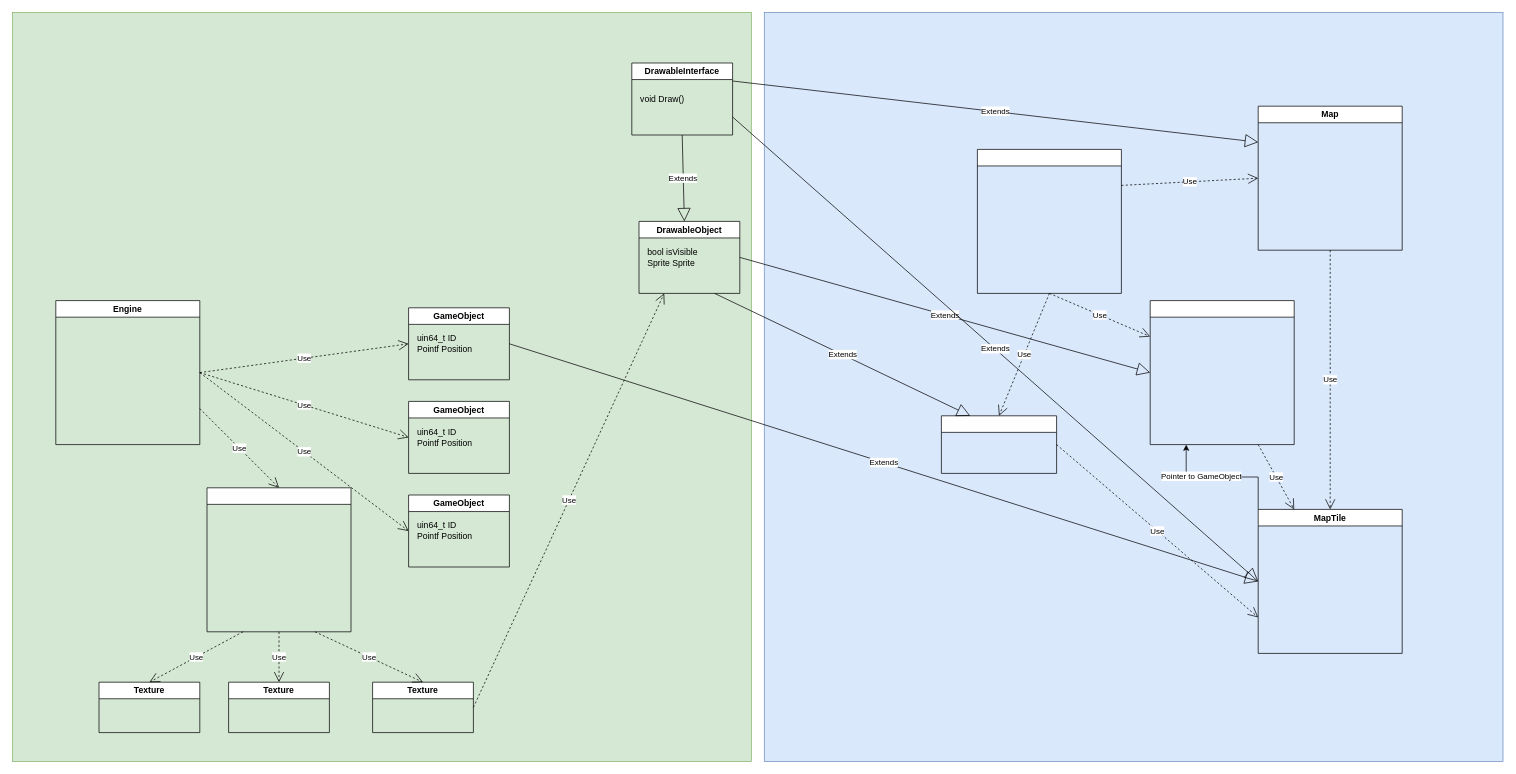
The diagram is 1516 pixels wide and 774 high, and some of its shapes have lost their labels. Here are the shapes that lost their labels. From the top down, the box of each, then its label:
(977, 149, 1121, 293): Level
(12, 12, 751, 761): Program Logic
(764, 12, 1503, 761): Game Logic
(1149, 300, 1294, 445): Tunnel
(941, 415, 1057, 473): Room
(206, 487, 351, 632): TextureManager
